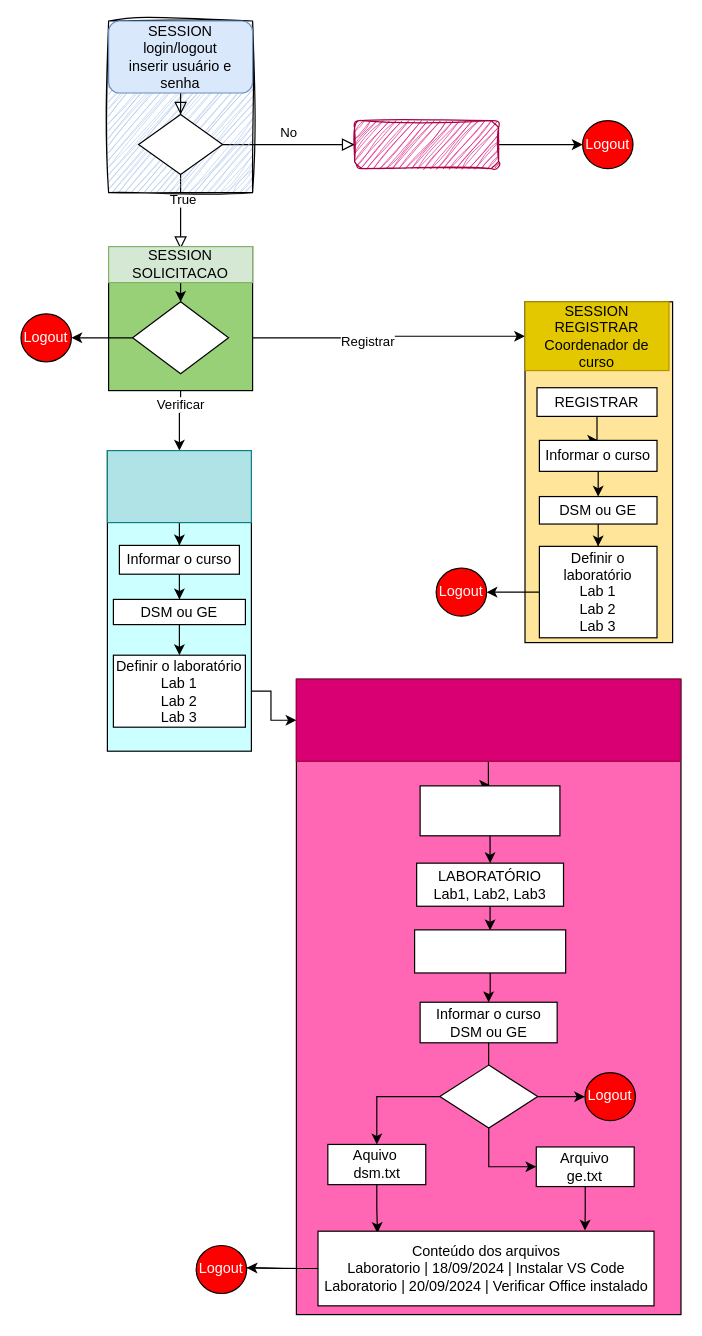
Some shapes in this 702 by 1336 pixel diagram are drawn without their labels. Here are the shapes that lost their labels. From the top down, the centre of each, then its label:
At (180,144): "senha".
At (426,144): "Encerrar sessão.".
At (180,337): "Solicitação".
At (178,486): "SESSION Verificar solicitação".
At (487,719): "SESSION RELATÓRIOS".
At (489,810): "CURSO DSM / GE".
At (489,951): "Iniciar sessão Emitir Relatório".
At (488,1096): "Relatório".
